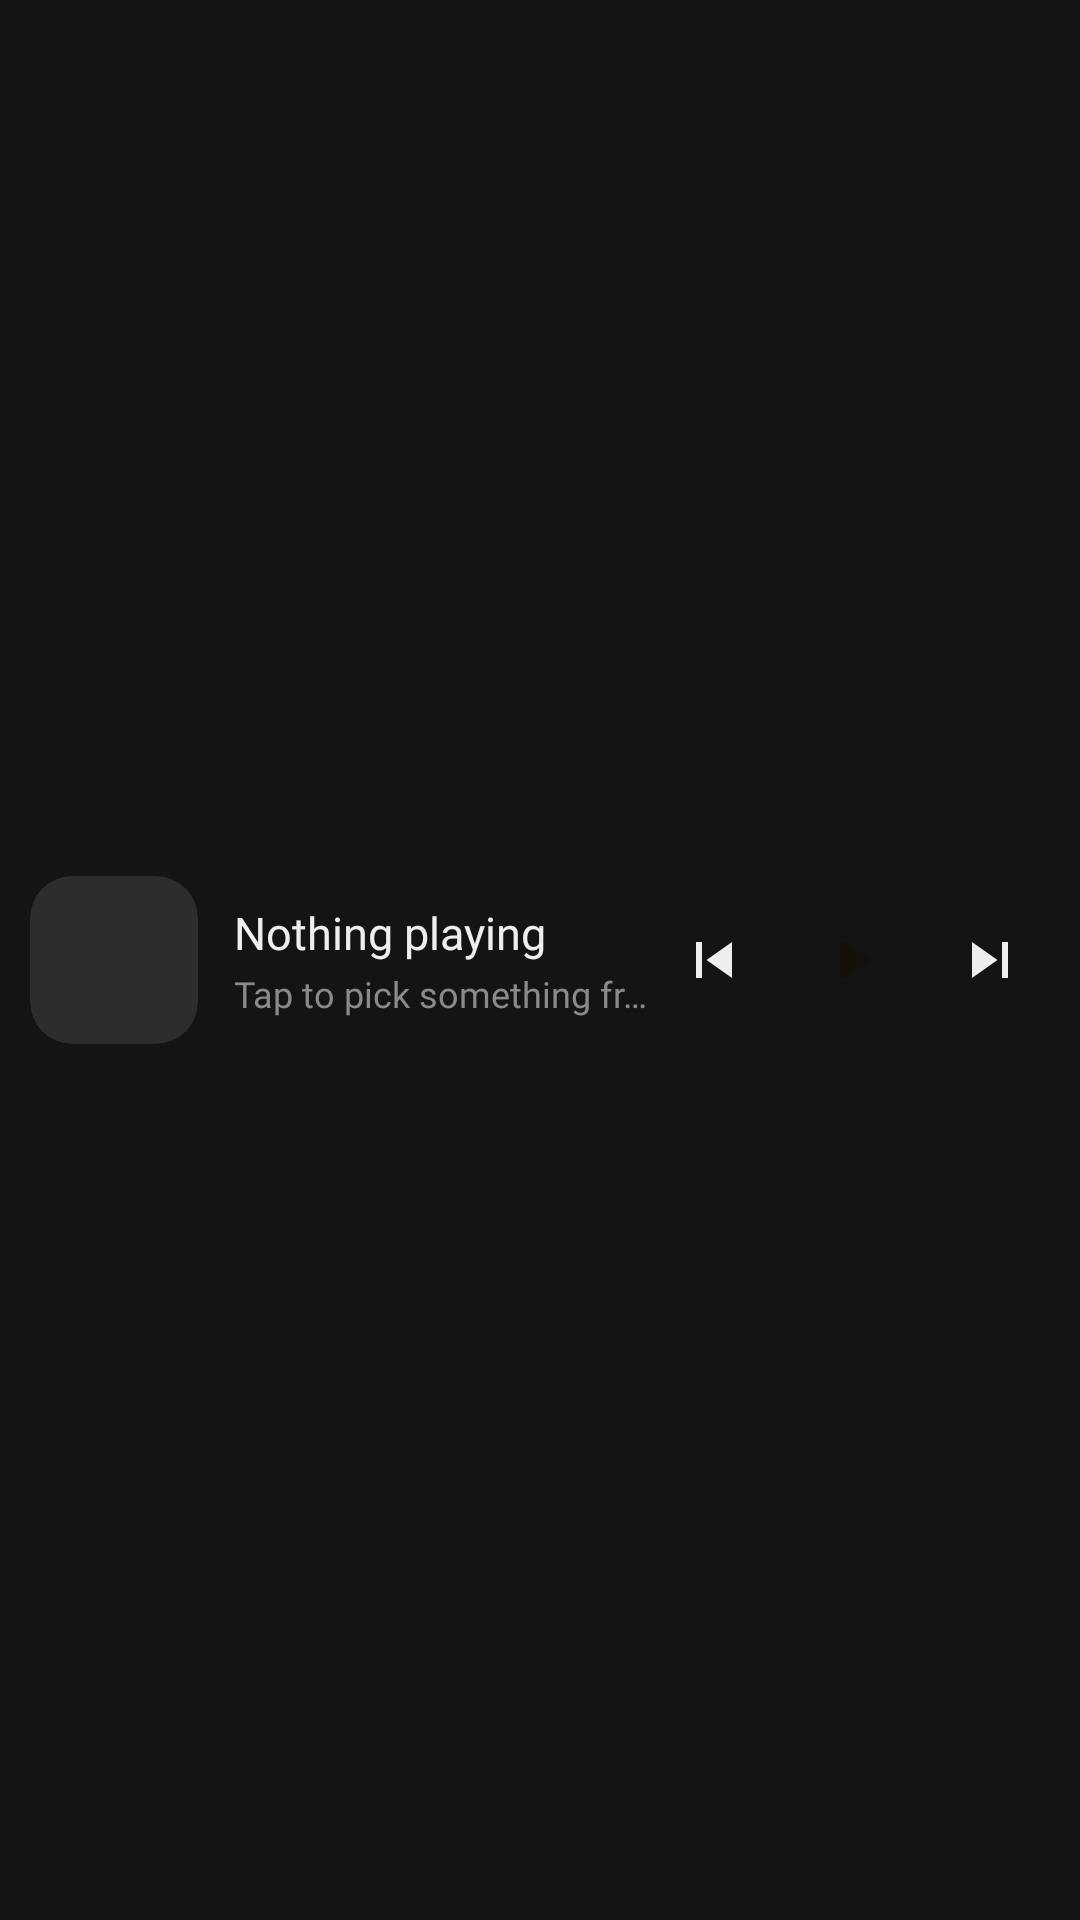

Icons on this 1080px×1920px Android screen, each with its box as (x1,y1,x2,y2):
Next: (972,942,1008,978)
Previous: (696,942,732,978)
